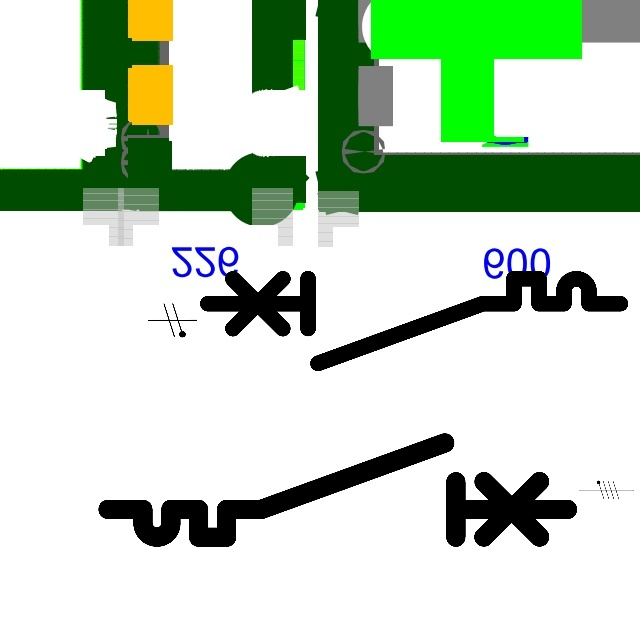interruptor_termomagnetico: (96, 431, 579, 549), (197, 268, 631, 374)
